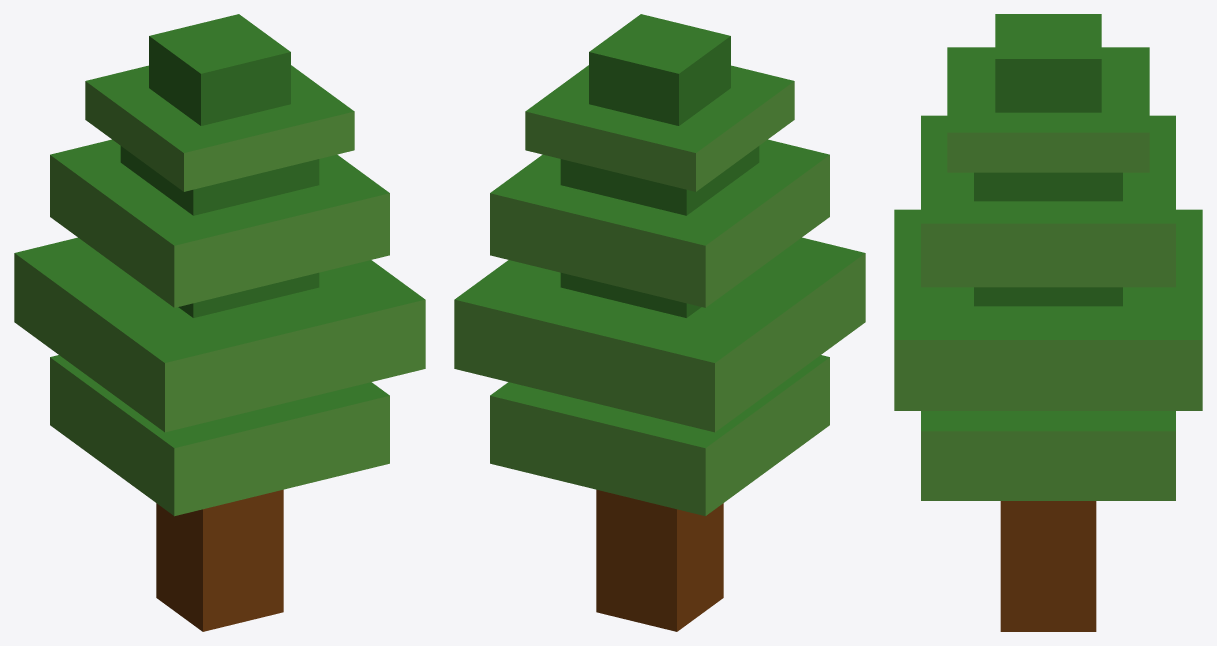
Rendered from medis4_rot.fbx.
3 views of the same model, side by side, from view 1: azimuth 30°, elevation 25°; view 2: azimuth 150°, elevation 25°; view 3: azimuth 270°, elevation 25° (orthographic). The views are drawn at different scales.
Parts seen in each view (by area): view 1: Cube.002; view 2: Cube.002; view 3: Cube.002.
Boxes of the visible parts, left/top/right/bottom form: Cube.002: left=14, top=14, right=425, bottom=631; Cube.002: left=454, top=14, right=865, bottom=631; Cube.002: left=894, top=14, right=1202, bottom=631.
Size of the model in its own units: 4.64 by 9.55 by 4.64.
